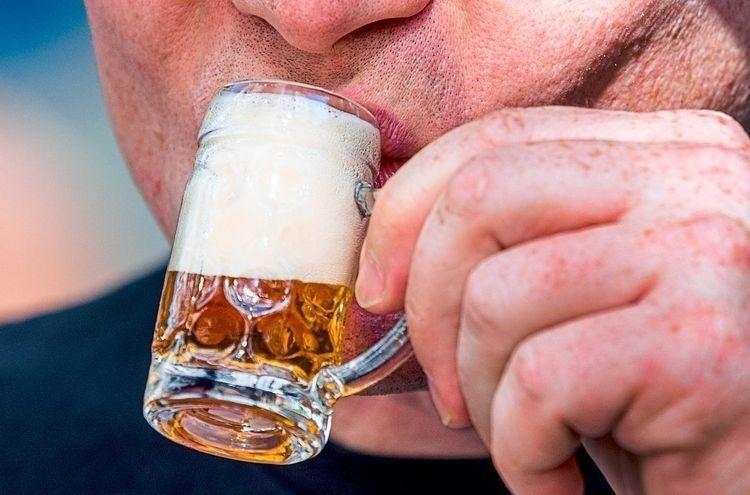glass-mug: (135, 74, 455, 471)
